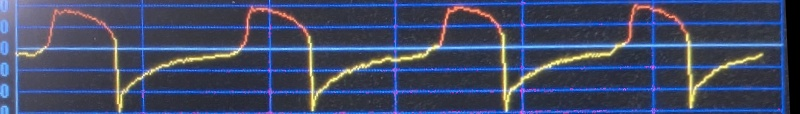normal_flow: (18, 0, 773, 114)
